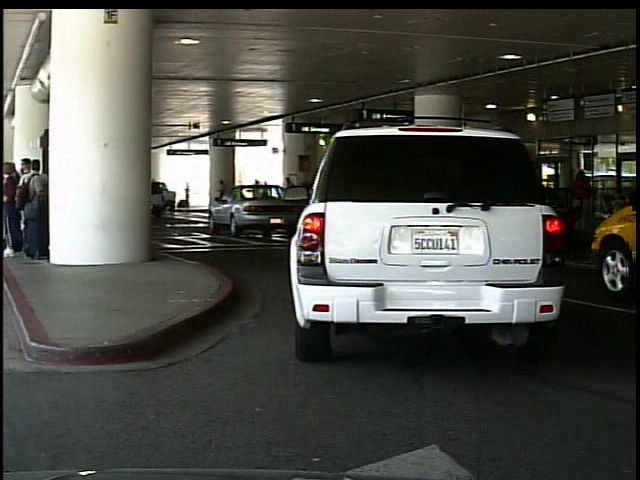person: (567, 165, 596, 204), (218, 175, 230, 210), (185, 181, 192, 208)
